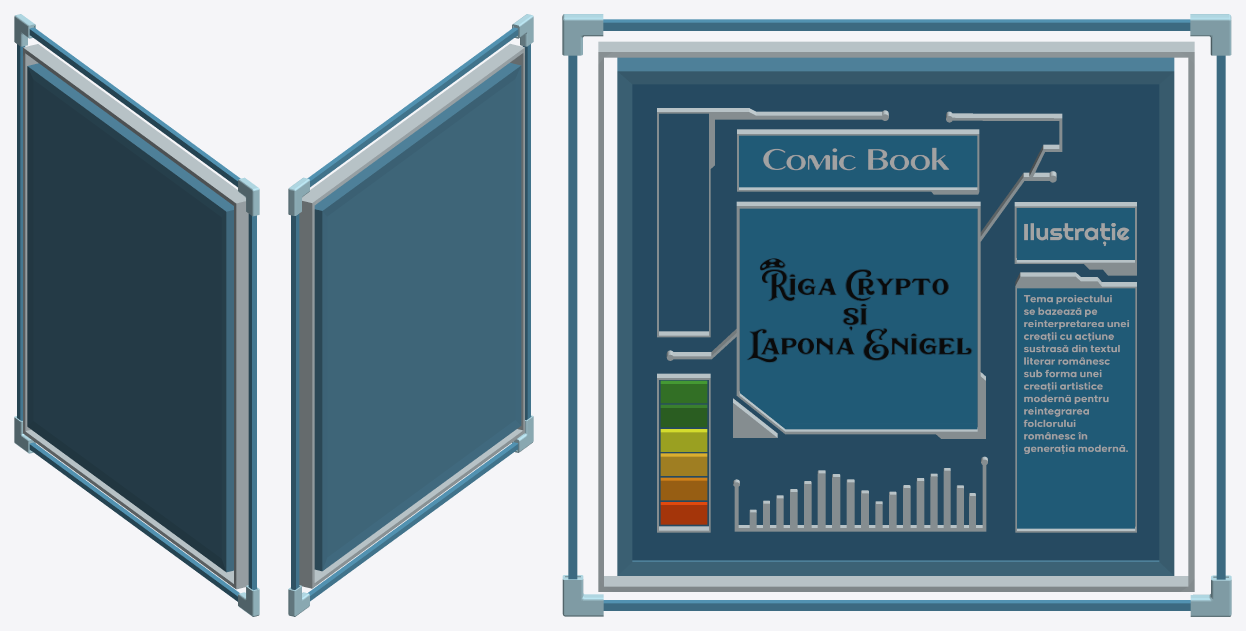
The model's file is disketa-crypto.glb.
3 renders of one model, left to right at view 1: azimuth 30°, elevation 25°; view 2: azimuth 150°, elevation 25°; view 3: azimuth 270°, elevation 25°, orthographic. The views are drawn at different scales.
Parts seen in each view (by area): view 1: rama_interior, rama_dintre, rama_exterioara, colt_stanga_jos; view 2: rama_interior, rama_dintre, rama_exterioara, colt_stanga_jos; view 3: fundalinterior, panou_logo, rama_interior, panou_text, rama_dintre, rama_exterioara, panou_titlu, rama_logo, grafic, panou_tema, colt_stanga_jos, stanga_spatiugolbaterie (+11 smaller).
Part boxes in pixels (x1=…): rama_interior: x1=27, y1=63, x2=233, y2=572; rama_dintre: x1=23, y1=44, x2=248, y2=589; rama_exterioara: x1=17, y1=27, x2=256, y2=601; colt_stanga_jos: x1=14, y1=14, x2=259, y2=616; rama_interior: x1=314, y1=63, x2=521, y2=571; rama_dintre: x1=299, y1=43, x2=524, y2=588; rama_exterioara: x1=291, y1=27, x2=530, y2=601; colt_stanga_jos: x1=288, y1=14, x2=533, y2=616; fundalinterior: x1=632, y1=84, x2=1159, y2=560; panou_logo: x1=740, y1=208, x2=977, y2=429; rama_interior: x1=617, y1=57, x2=1174, y2=575; panou_text: x1=1017, y1=288, x2=1134, y2=528; rama_dintre: x1=598, y1=41, x2=1194, y2=591; rama_exterioara: x1=568, y1=19, x2=1225, y2=610; panou_titlu: x1=739, y1=135, x2=977, y2=187; rama_logo: x1=666, y1=111, x2=1062, y2=438; grafic: x1=733, y1=456, x2=987, y2=531; panou_tema: x1=1017, y1=208, x2=1134, y2=259; colt_stanga_jos: x1=562, y1=14, x2=1231, y2=616; stanga_spatiugolbaterie: x1=657, y1=108, x2=888, y2=337.
Size of the model in its own units: 0.4011 by 6.77 by 6.85.
23 materials, 4 textured.
